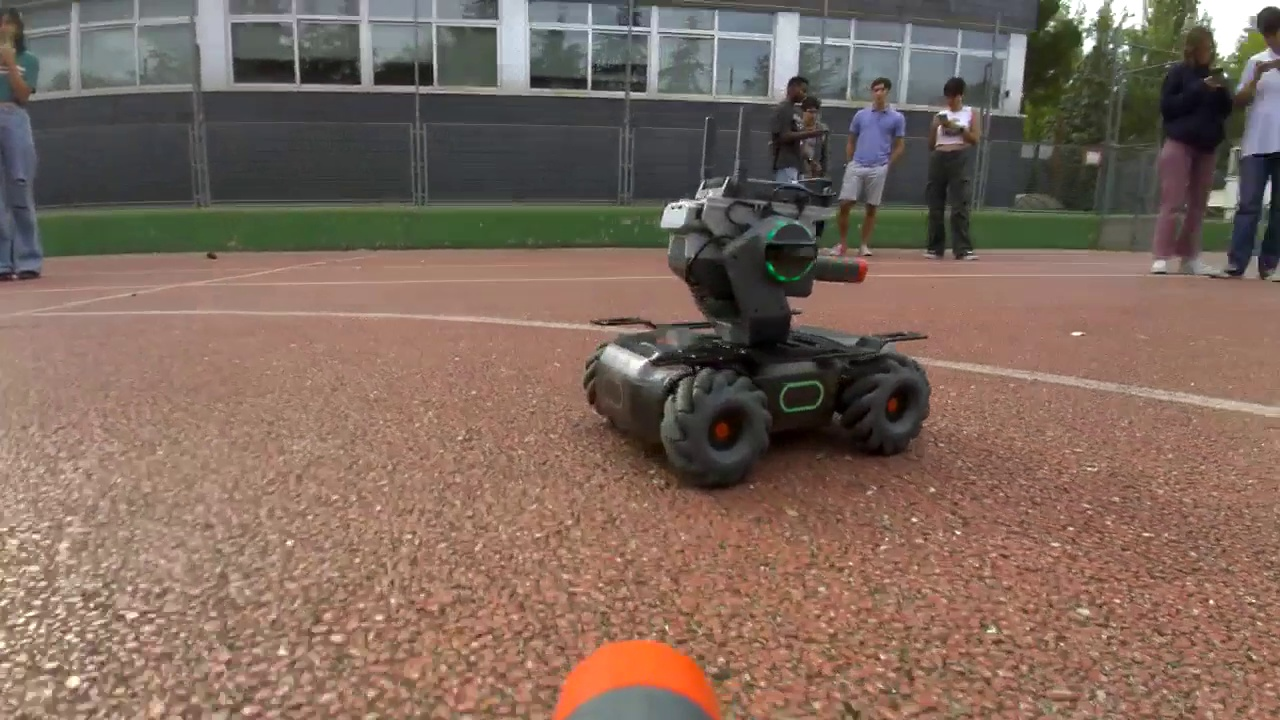robot: (585, 181, 930, 484)
